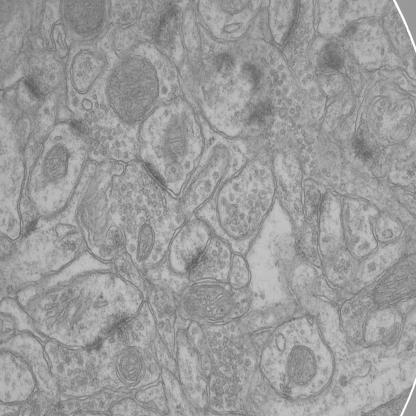mitochondria: (105, 53, 160, 125), (369, 251, 416, 312), (181, 279, 235, 327), (63, 0, 105, 43), (284, 338, 319, 389), (39, 139, 71, 185), (165, 118, 193, 161), (130, 221, 156, 262), (116, 348, 142, 382)
